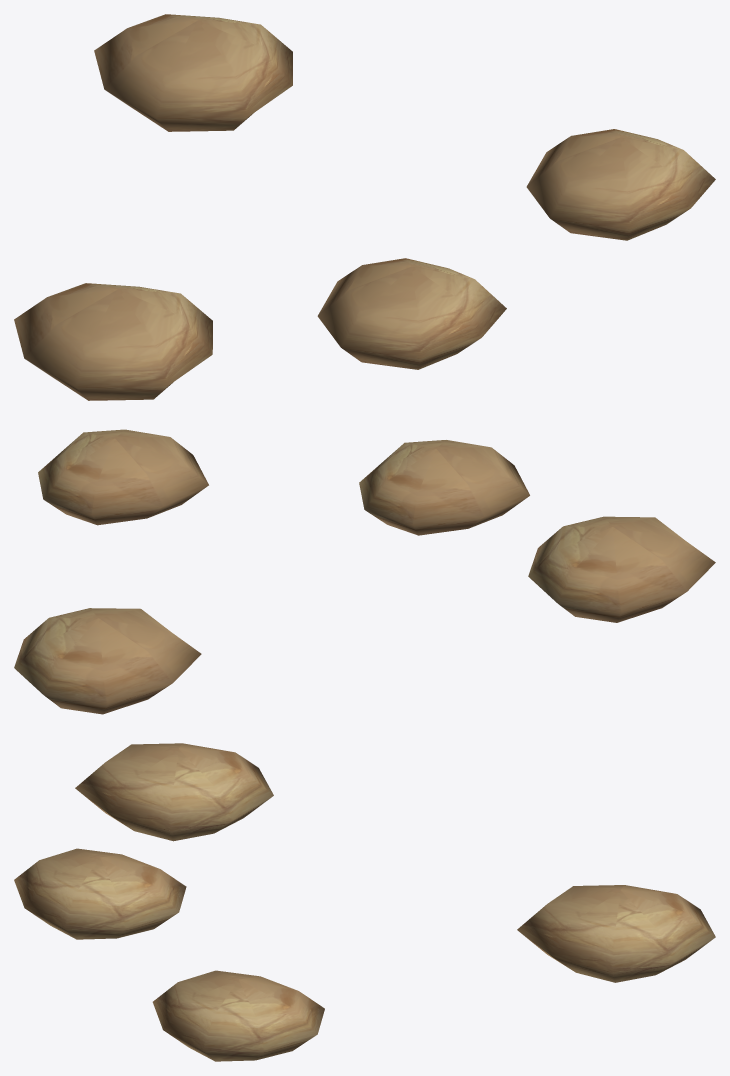
The model's file is desert_stone05.FBX.
3 renders of one model, top to bottom at view 1: azimuth 30°, elevation 25°; view 2: azimuth 150°, elevation 25°; view 3: azimuth 270°, elevation 25°, orthographic. The views are drawn at different scales.
Parts seen in each view (by area): view 1: Sphere010; view 2: Sphere010; view 3: Sphere010.
Boxes of the visible parts, x1=… form: Sphere010: x1=14, y1=14, x2=715, y2=400; Sphere010: x1=14, y1=429, x2=715, y2=714; Sphere010: x1=14, y1=743, x2=715, y2=1061.
Bounding box in the file's own units: 19.85 × 2.09 × 19.87.
